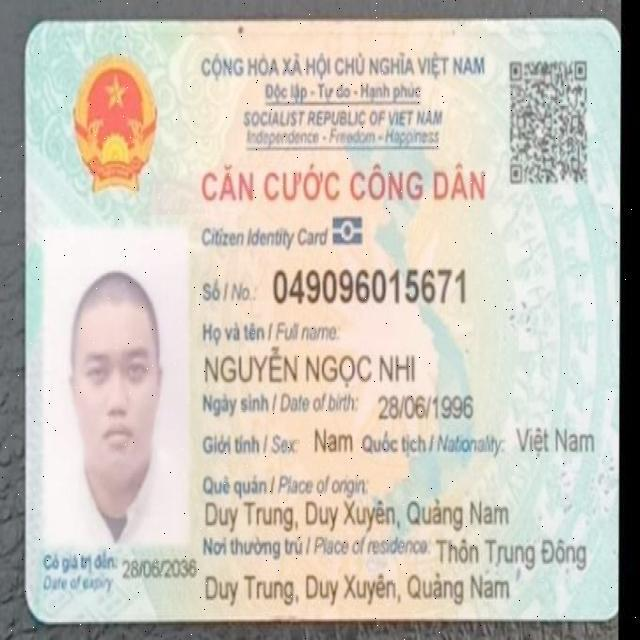current_place: (203, 564, 513, 610), (437, 535, 593, 575)
dob: (376, 394, 477, 422)
expire_date: (120, 555, 197, 585)
gender: (314, 423, 354, 459)
id: (270, 262, 468, 307)
name: (200, 341, 421, 391)
nationality: (514, 423, 598, 463)
origin_place: (202, 497, 512, 531)
